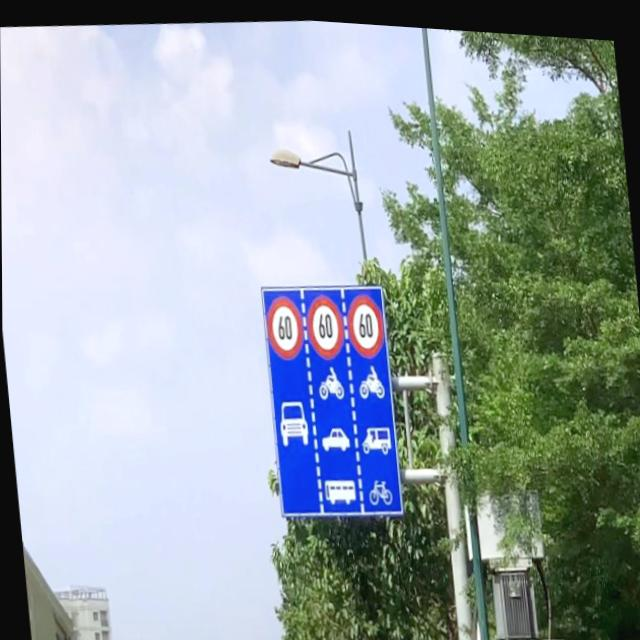Toc do toi da cho phep: (305, 288, 346, 357), (344, 287, 385, 356), (264, 289, 305, 357)
